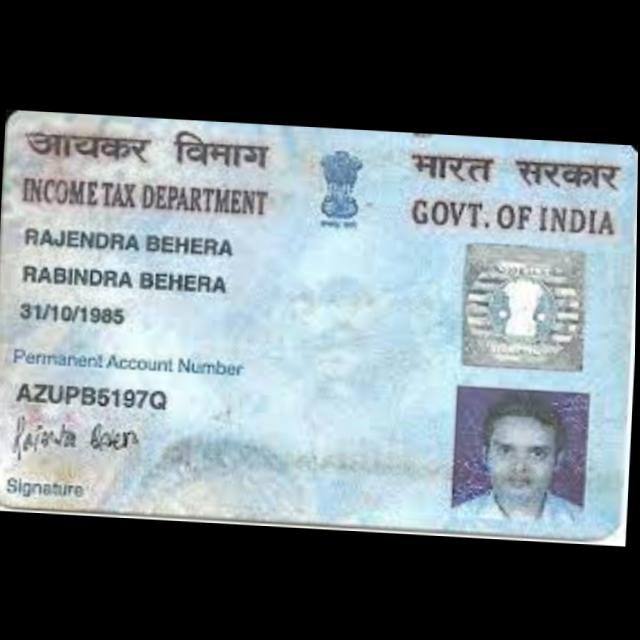pan: (0, 108, 639, 542)
